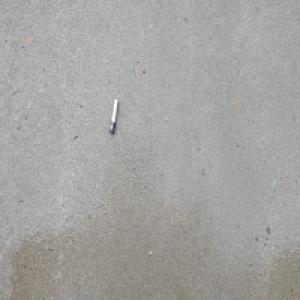Battery: (109, 97, 119, 135)
